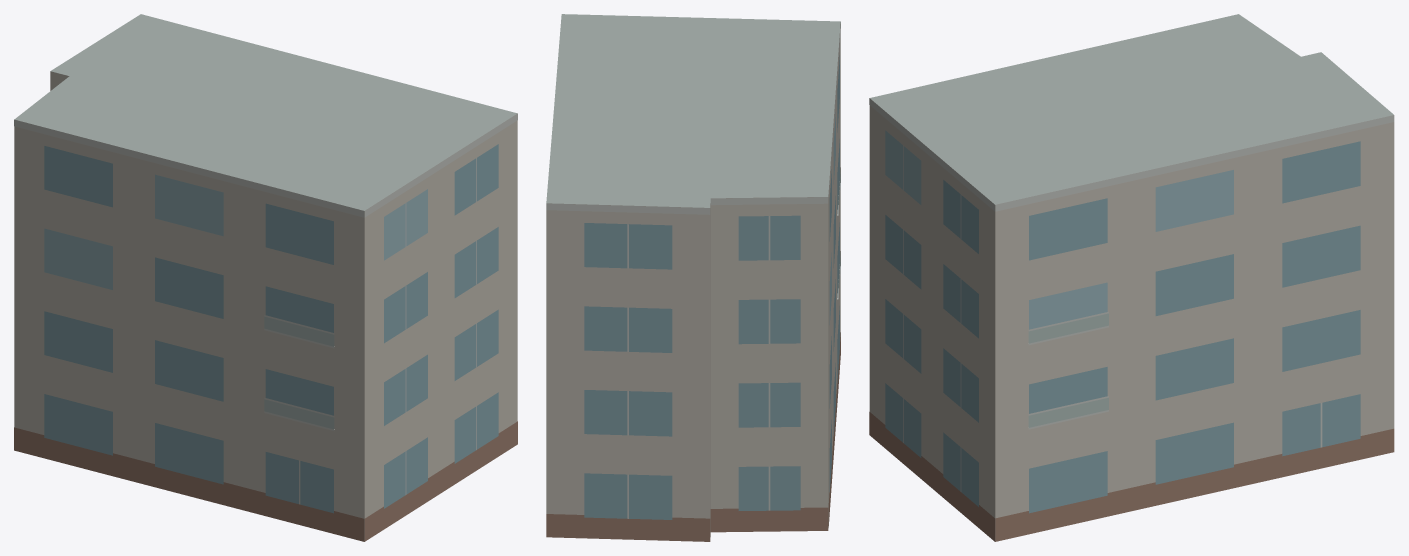
The model's file is survey-upis-32816342.glb.
3 renders of one model, left to right at view 1: azimuth 30°, elevation 25°; view 2: azimuth 150°, elevation 25°; view 3: azimuth 270°, elevation 25°, orthographic.
Visible parts, largest first — view 1: survey-upis-32816342.tmp; view 2: survey-upis-32816342.tmp; view 3: survey-upis-32816342.tmp.
Boxes of the visible parts, left/top/right/bottom form: survey-upis-32816342.tmp: left=14, top=14, right=517, bottom=541; survey-upis-32816342.tmp: left=546, top=14, right=840, bottom=541; survey-upis-32816342.tmp: left=869, top=14, right=1394, bottom=541.
Size of the model in its own units: 14.34 by 11.8 by 16.66.
